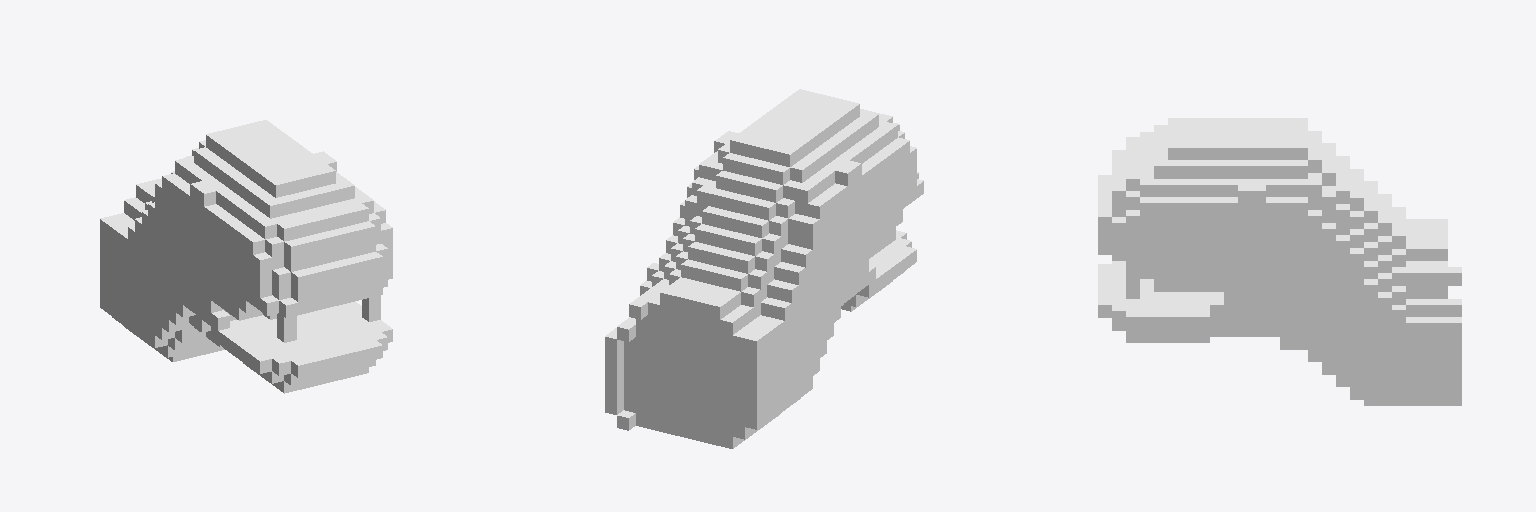
Rendered from PreCheck_Snake1-4.obj.
The picture shows the model from 3 angles: view 1: azimuth 30°, elevation 25°; view 2: azimuth 150°, elevation 25°; view 3: azimuth 270°, elevation 25°; orthographic projection.
Parts seen in each view (by area): view 1: object 1; view 2: object 1; view 3: object 1.
Boxes of the visible parts, box(x1,y1,x2,y2) form: object 1: box(100, 120, 392, 393); object 1: box(605, 89, 923, 448); object 1: box(1098, 118, 1461, 405).
Size of the model in its own units: 1.2 by 1.9 by 2.6.